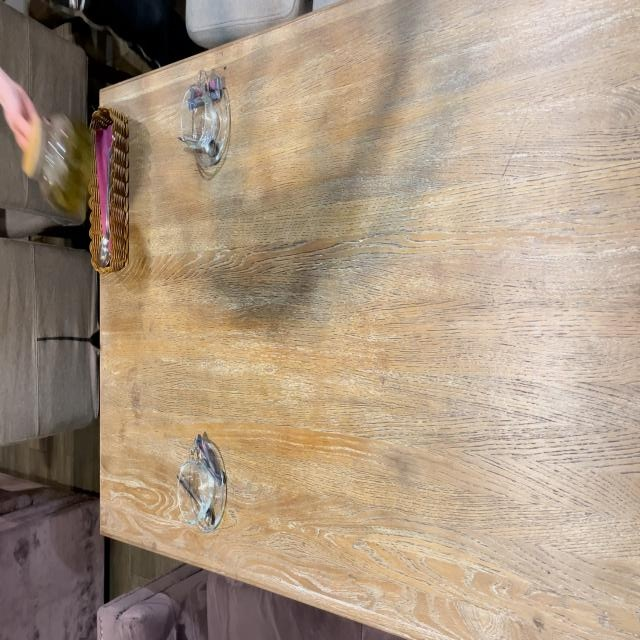tea: (21, 104, 97, 228)
